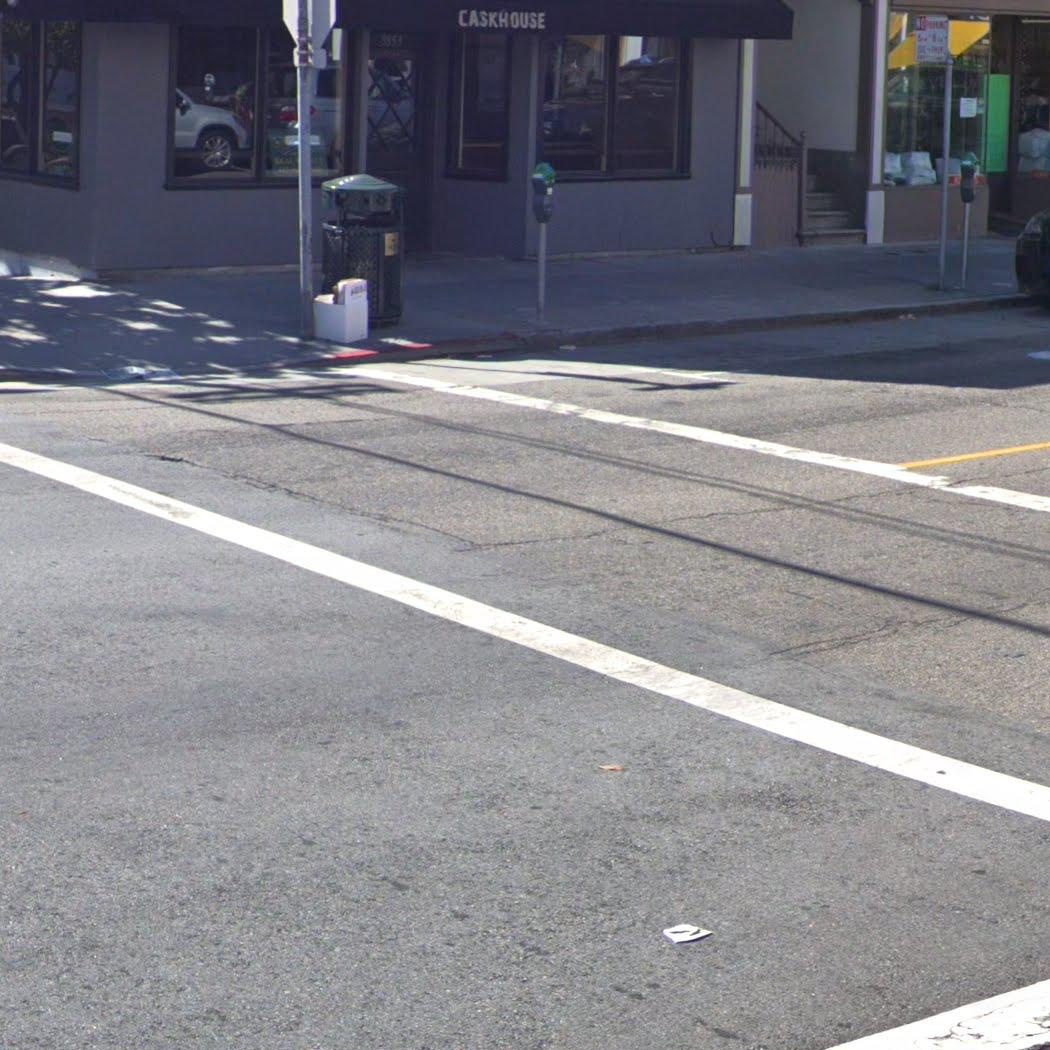No Parking: (915, 13, 950, 65)
